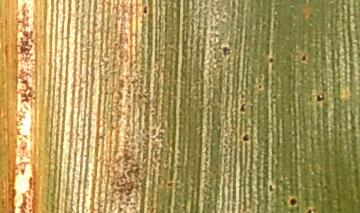tarspot: (315, 90, 326, 106), (236, 102, 248, 115), (140, 4, 151, 18), (287, 197, 300, 208), (219, 44, 232, 55), (241, 131, 251, 145), (267, 183, 277, 196), (298, 53, 309, 63), (266, 56, 276, 65)
